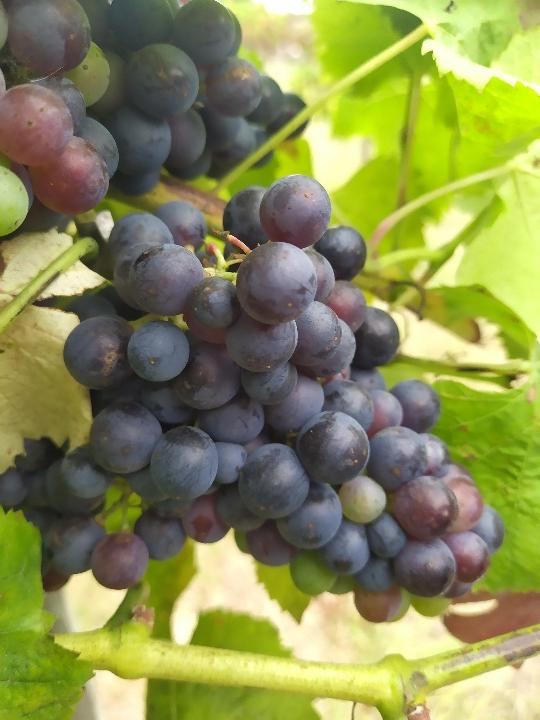grape: (61, 177, 507, 625)
